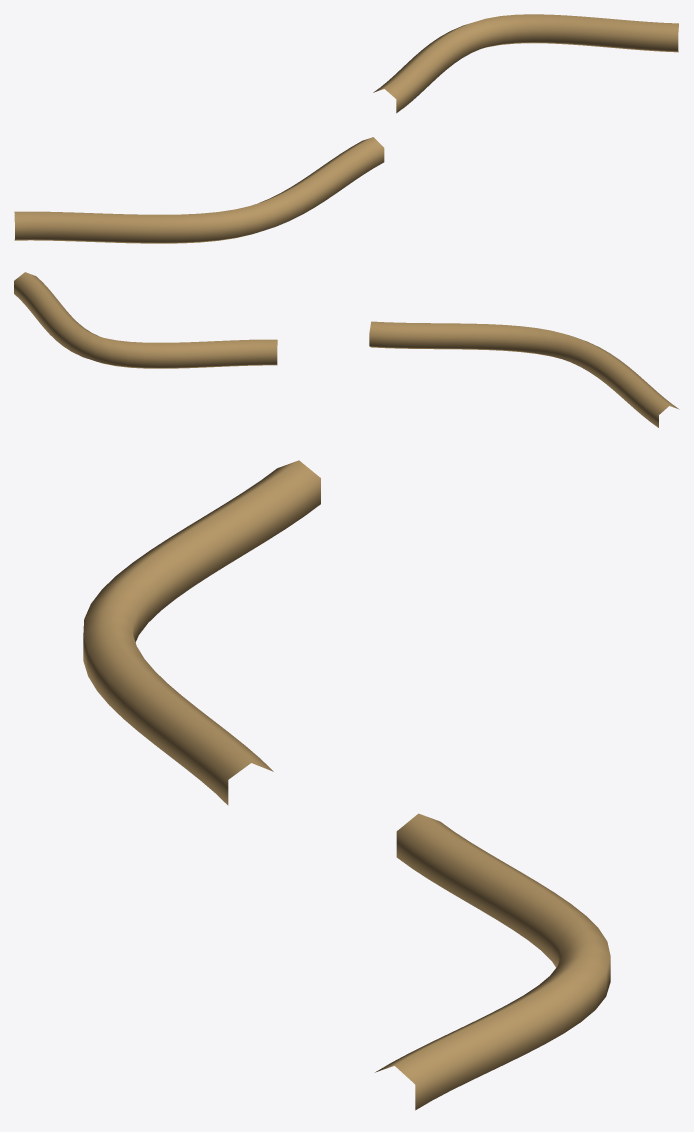
File: rope-broken.glb
The picture shows the model from 3 angles, top to bottom: view 1: azimuth 30°, elevation 25°; view 2: azimuth 150°, elevation 25°; view 3: azimuth 270°, elevation 25°; orthographic projection. The views are drawn at different scales.
Bounding box in the file's own units: 0.6107 × 0.024 × 0.2208.
